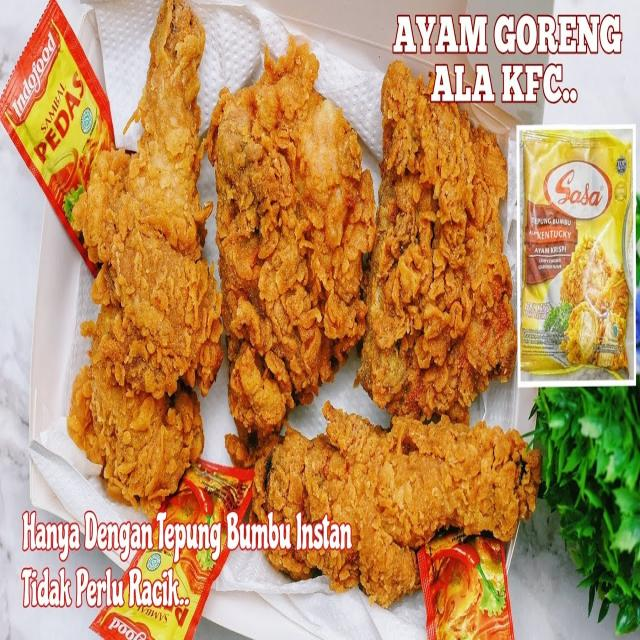Frango: (70, 0, 206, 500), (212, 42, 378, 439), (363, 61, 519, 408), (256, 411, 524, 604)
